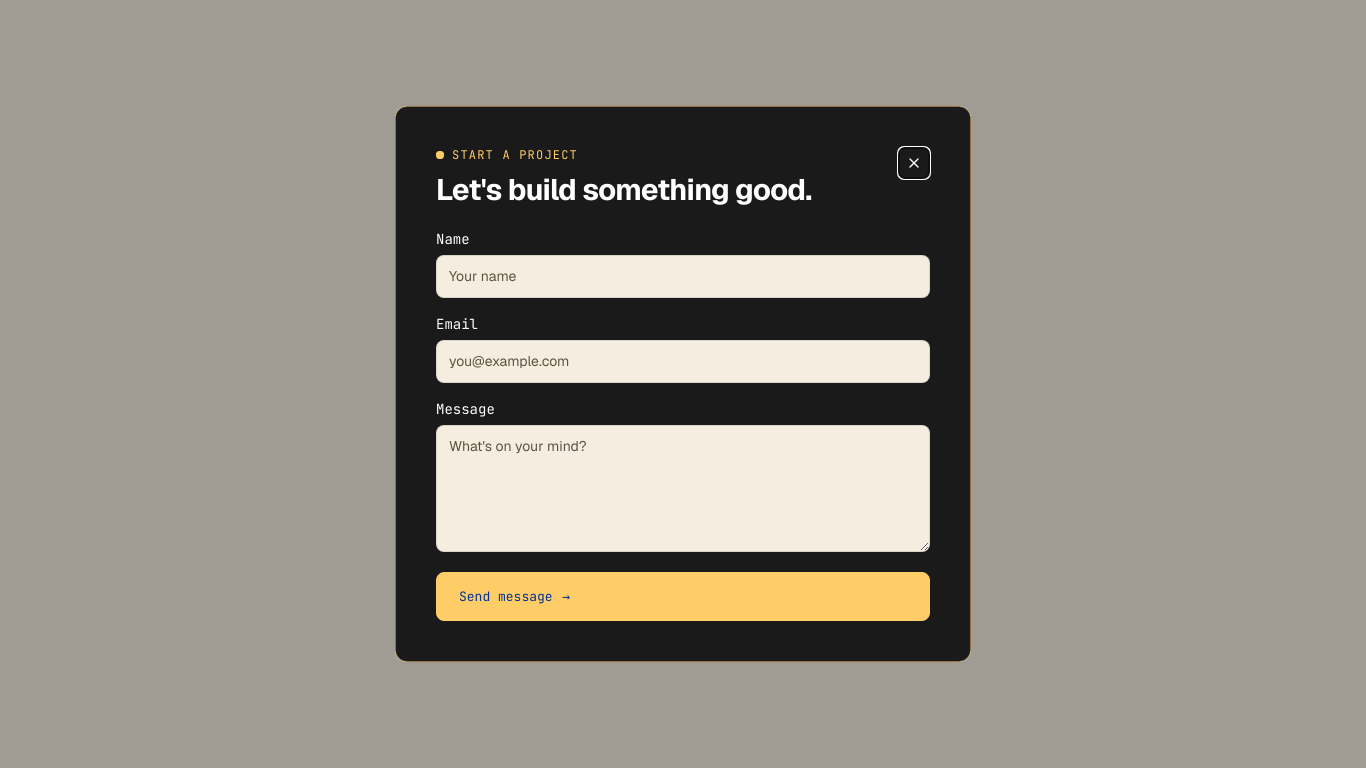
Test: ContactModal › shows submitError message on failed fetch
In the field labelled "Name": (683, 276) x1=436 y1=255 x2=930 y2=298, type "Bob"
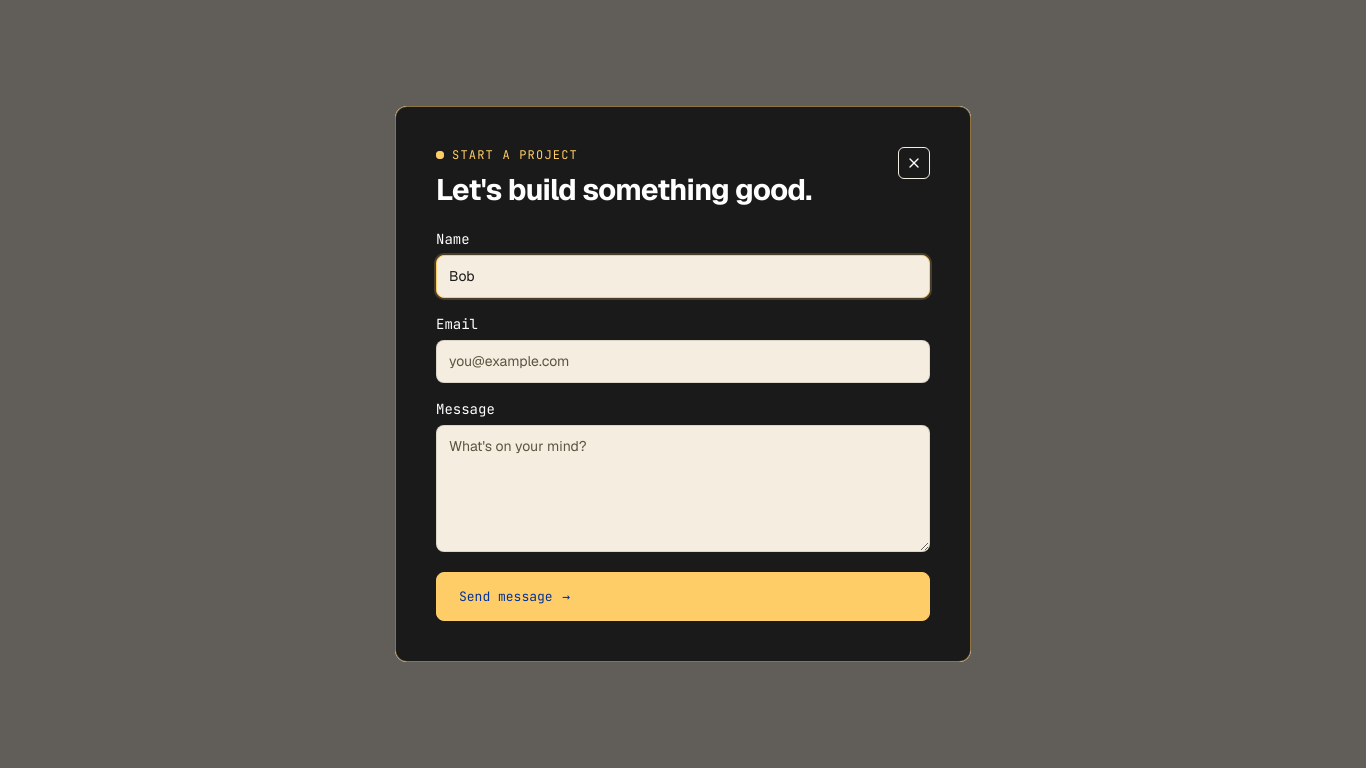
In the field labelled "Email": (683, 361) x1=436 y1=340 x2=930 y2=383, type "bob@example.com"
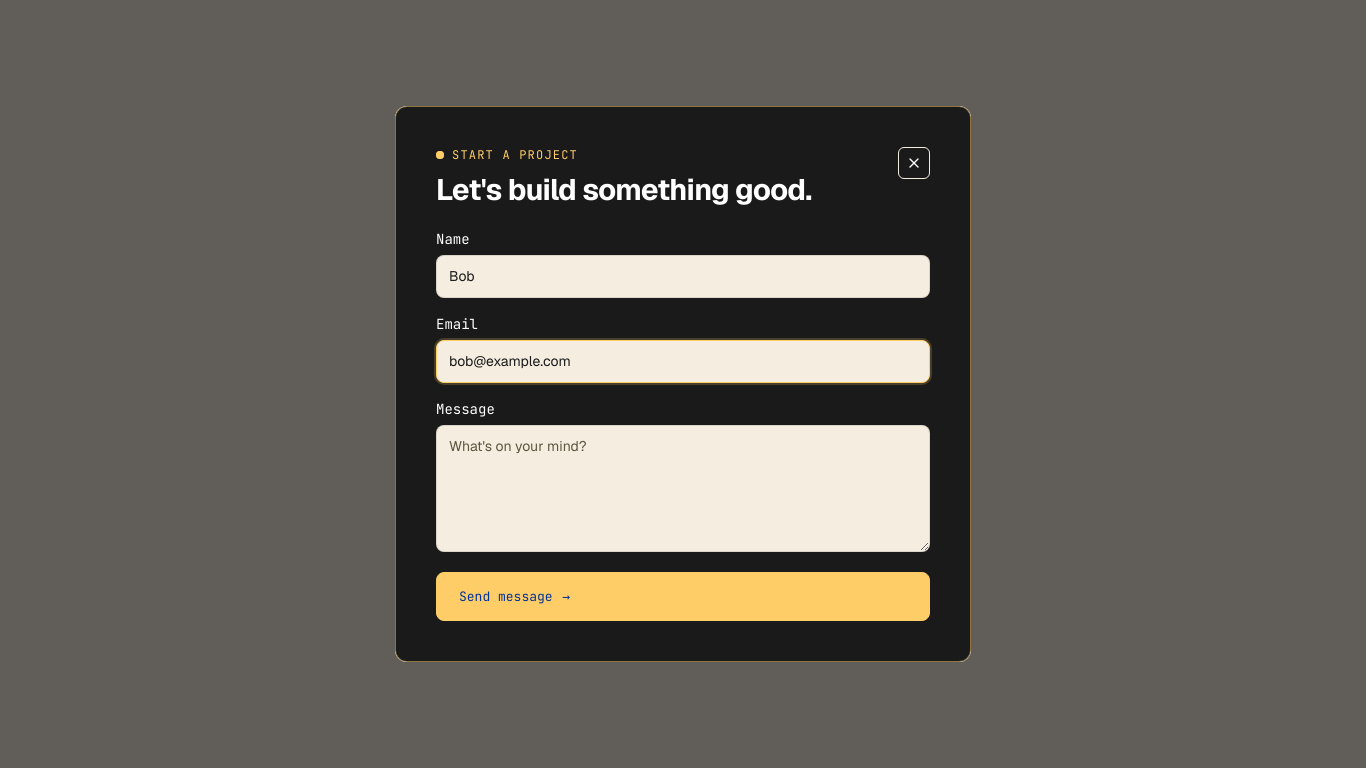
In the text box labelled "Message": (683, 488) x1=436 y1=425 x2=930 y2=552, type "This is a test message."
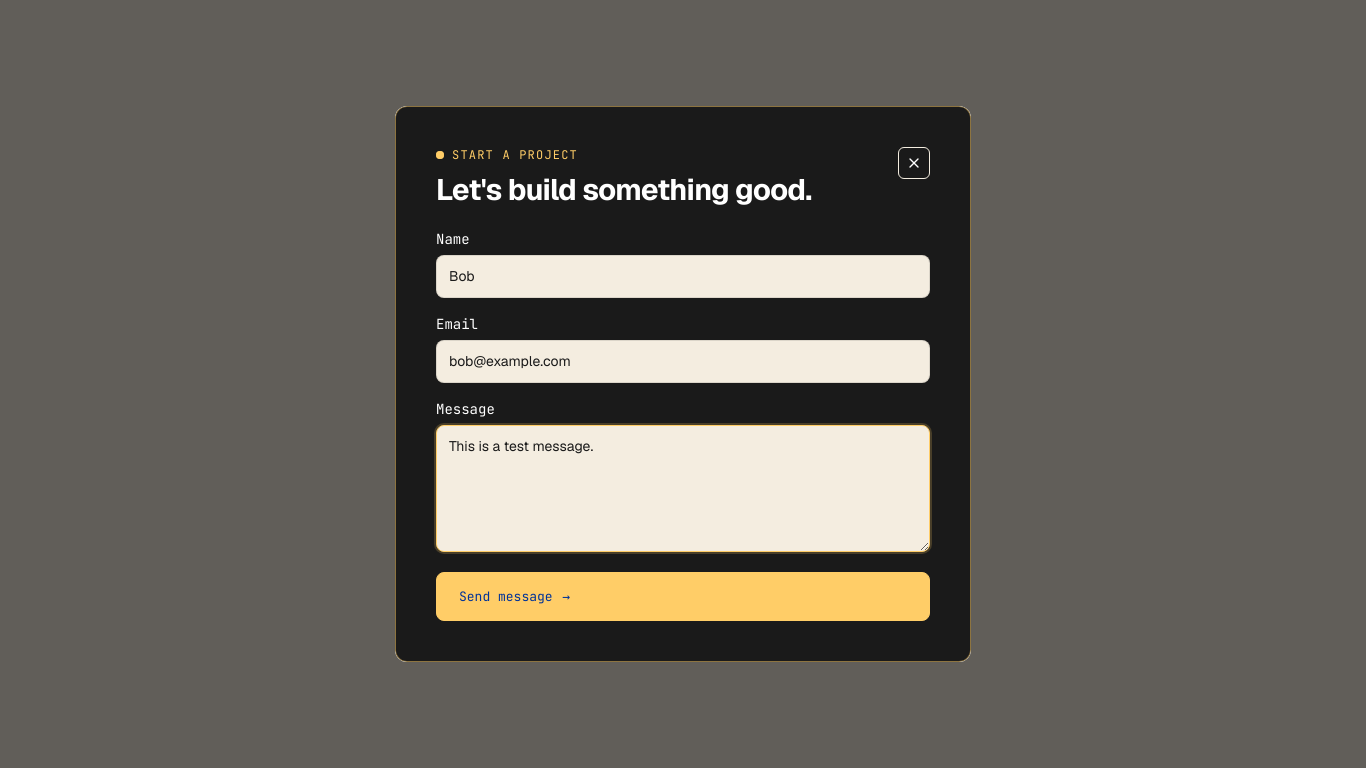
Click the button "Send message →": (506, 596) x1=436 y1=572 x2=930 y2=621
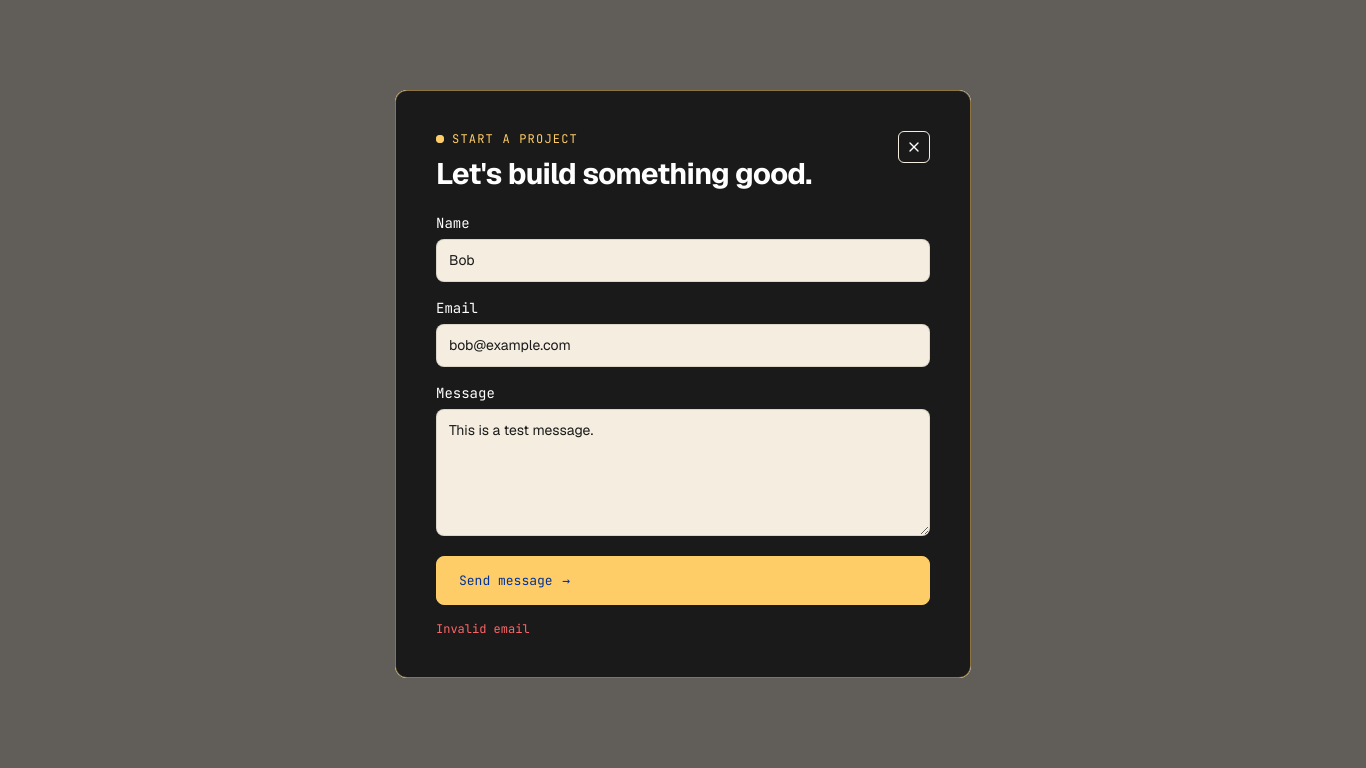
Check: the text "Invalid email" is shown, box x1=436 y1=621 x2=530 y2=637
